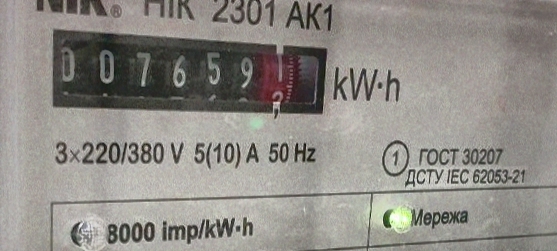0: (93, 45, 118, 86), (54, 43, 78, 84)
1: (271, 52, 288, 86)
5: (202, 49, 223, 88)
6: (167, 51, 190, 90)
7: (132, 49, 152, 89)
9: (237, 54, 255, 92)
screen: (41, 13, 337, 140)
